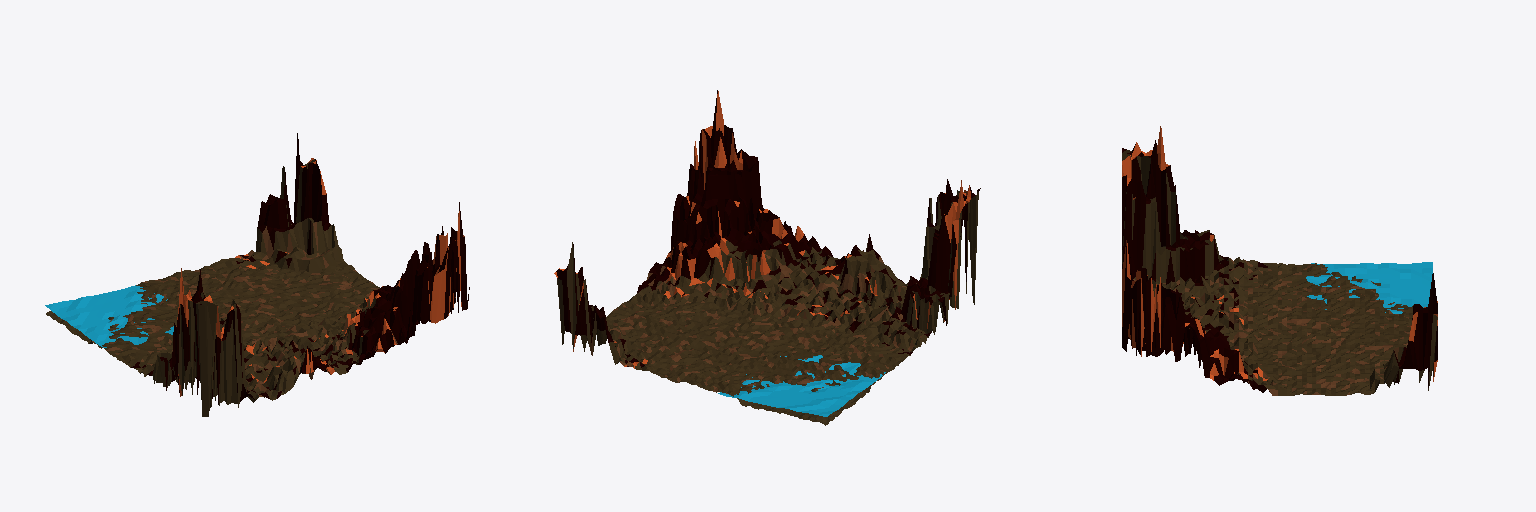
Rendered from Ground.obj.
3 renders of one model, left to right at view 1: azimuth 30°, elevation 25°; view 2: azimuth 150°, elevation 25°; view 3: azimuth 270°, elevation 25°, orthographic.
Parts seen in each view (by area): view 1: Plane; view 2: Plane; view 3: Plane.
Part boxes in pixels (left/top/right/bottom): Plane: left=45, top=133, right=469, bottom=416; Plane: left=554, top=90, right=980, bottom=425; Plane: left=1122, top=126, right=1437, bottom=395.
Size of the model in its own units: 80.26 by 46.15 by 81.25.